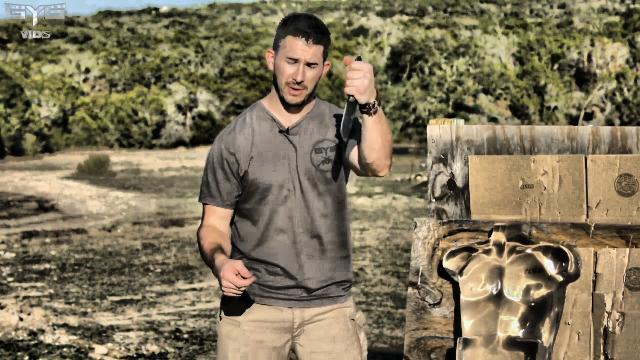knife: (334, 57, 374, 146)
